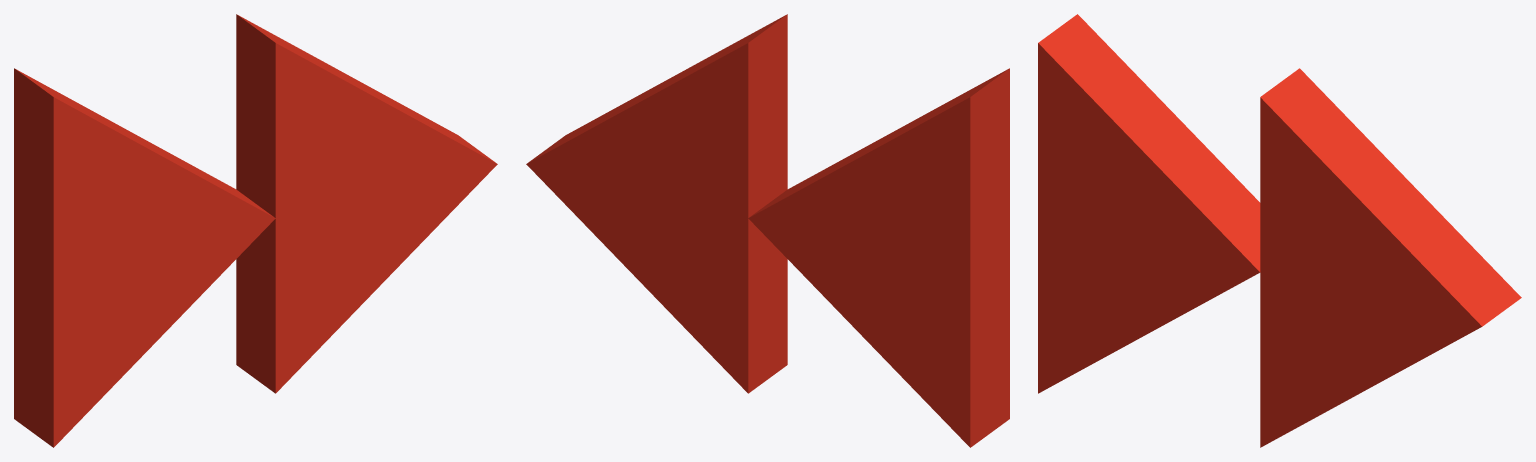
File: Icon_Rewind_01.fbx
The picture shows the model from 3 angles, left to right: view 1: azimuth 30°, elevation 25°; view 2: azimuth 150°, elevation 25°; view 3: azimuth 330°, elevation 25°; orthographic projection.
Parts seen in each view (by area): view 1: Icon_Rewind_01; view 2: Icon_Rewind_01; view 3: Icon_Rewind_01.
Boxes of the visible parts, x1,y1,x2,y2 form: Icon_Rewind_01: [14, 14, 497, 447]; Icon_Rewind_01: [526, 14, 1009, 447]; Icon_Rewind_01: [1038, 14, 1521, 447].
Size of the model in its own units: 78.3 by 59.11 by 12.06.
